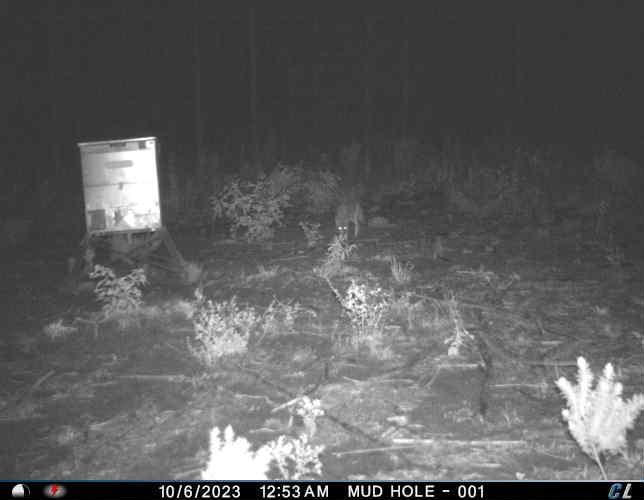Coyote: (333, 200, 368, 245)
